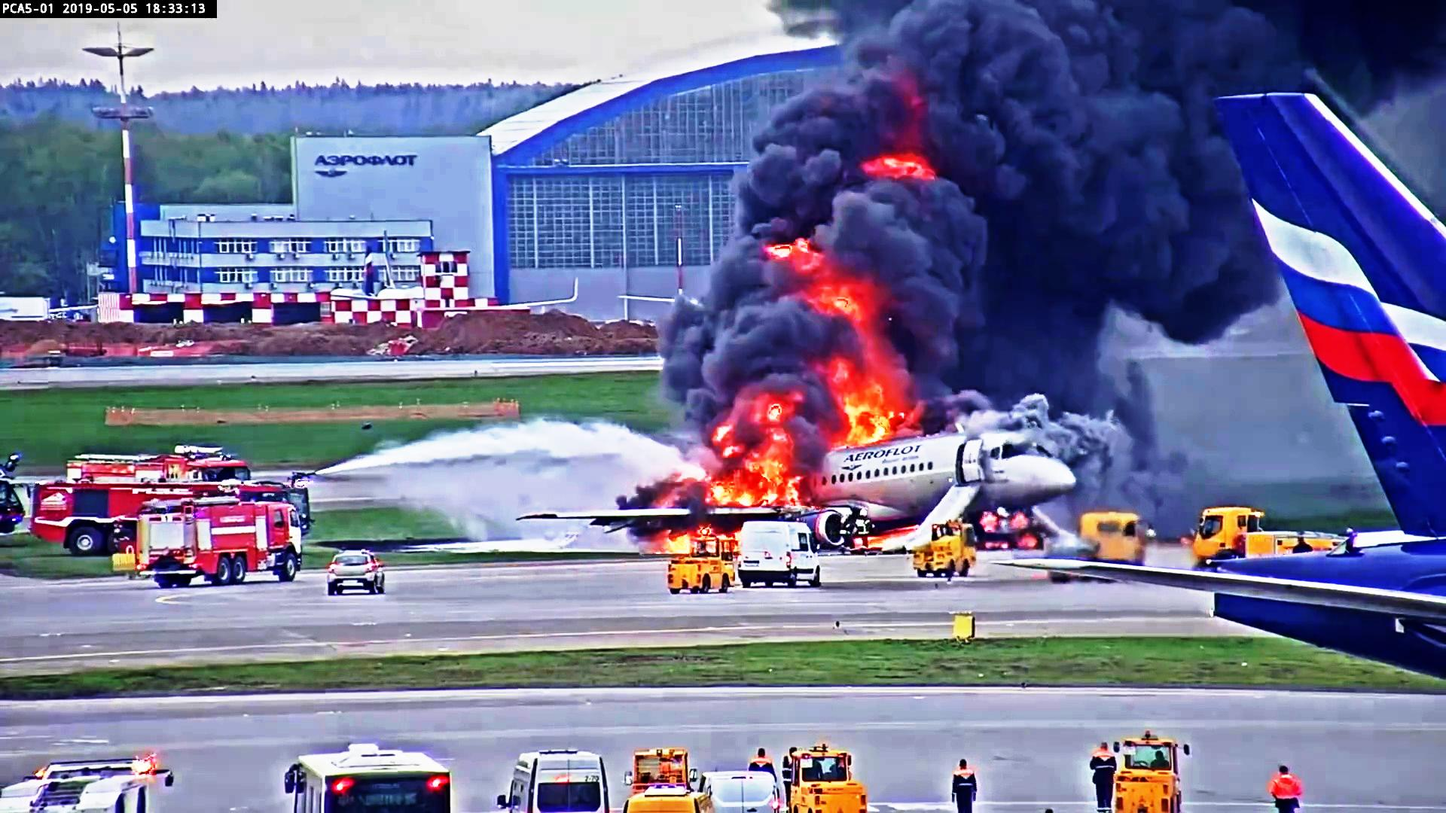fire: (705, 435, 802, 499)
smoke: (864, 0, 1232, 318), (818, 149, 1011, 347)
